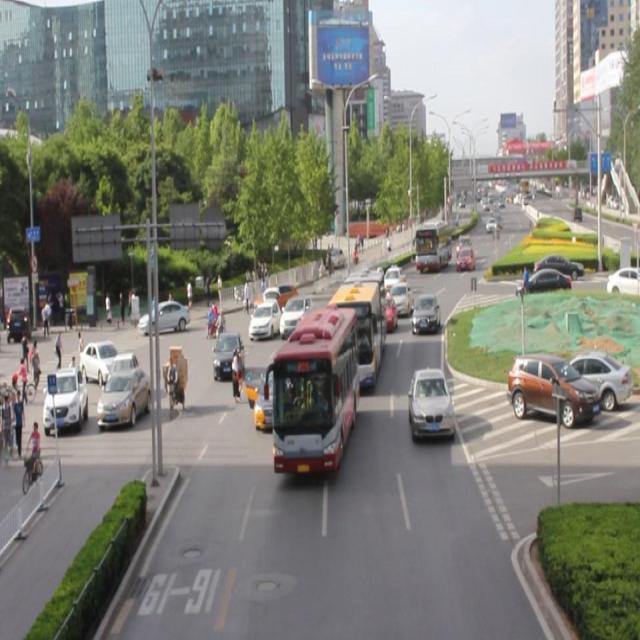car: (408, 367, 452, 439), (253, 363, 297, 423), (212, 331, 244, 378), (252, 286, 299, 318), (279, 294, 312, 338), (248, 298, 279, 340), (410, 292, 439, 334), (372, 294, 396, 332), (387, 282, 411, 318), (382, 265, 406, 298)
van: (273, 308, 355, 468), (326, 267, 383, 392)
